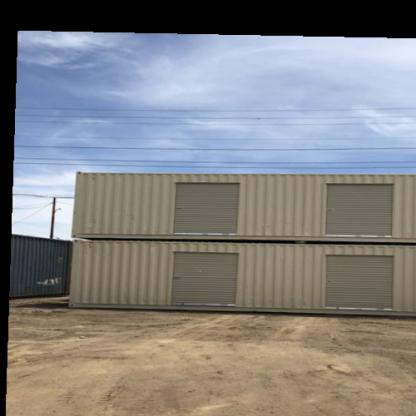Damage: (258, 294, 312, 307), (164, 270, 185, 284), (323, 201, 336, 215), (166, 202, 184, 210)
